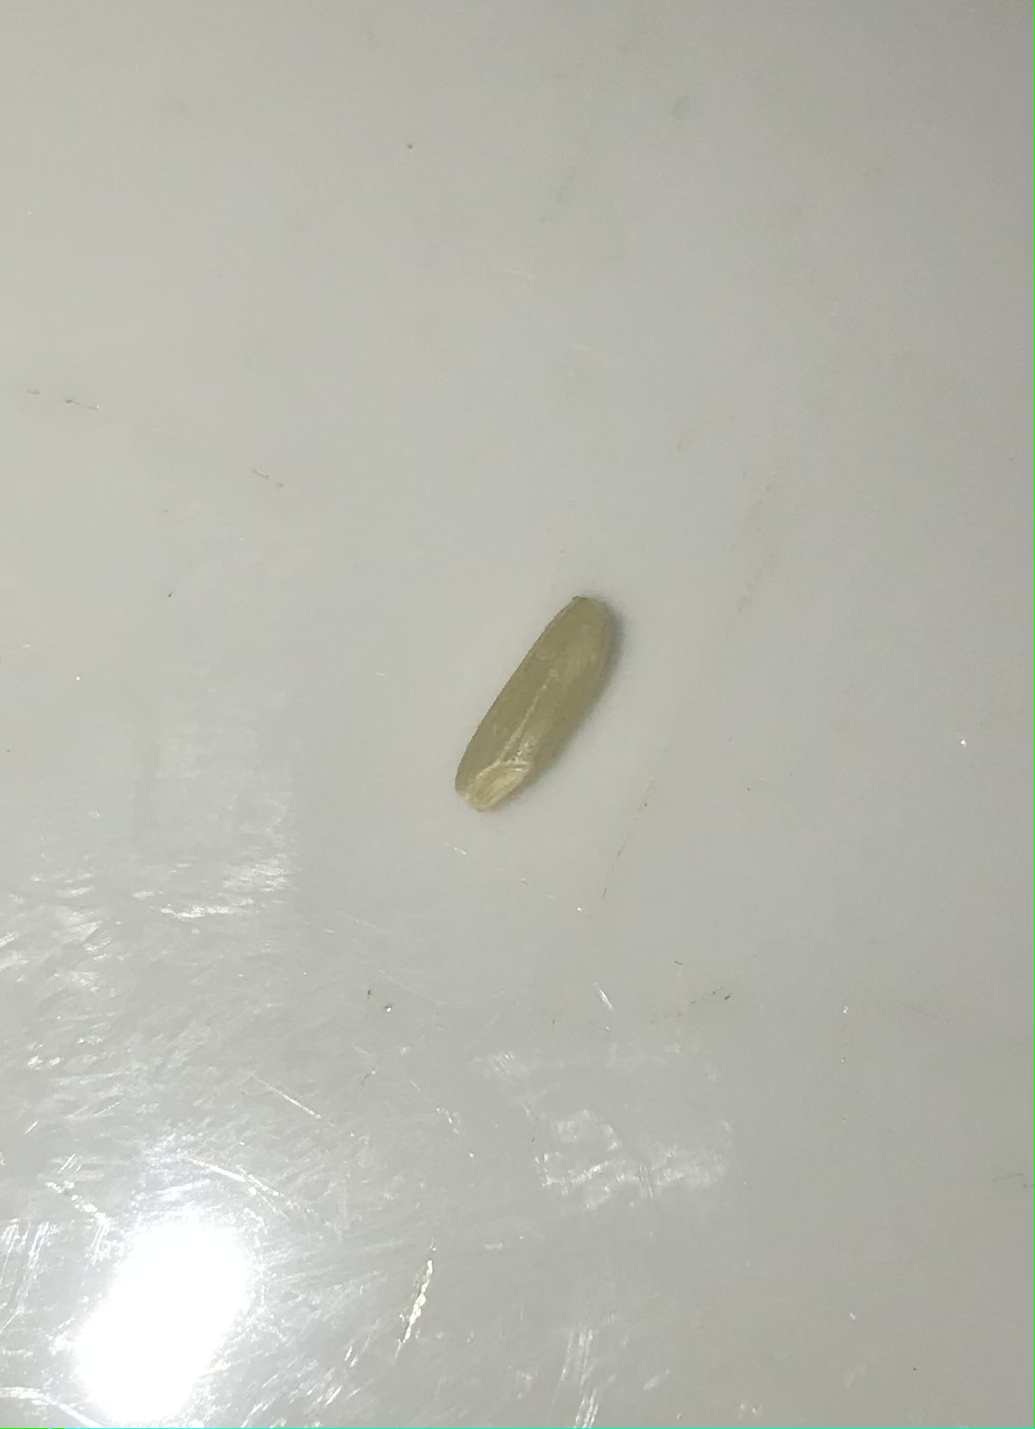Gao Lut Trang: (451, 587, 633, 825)
